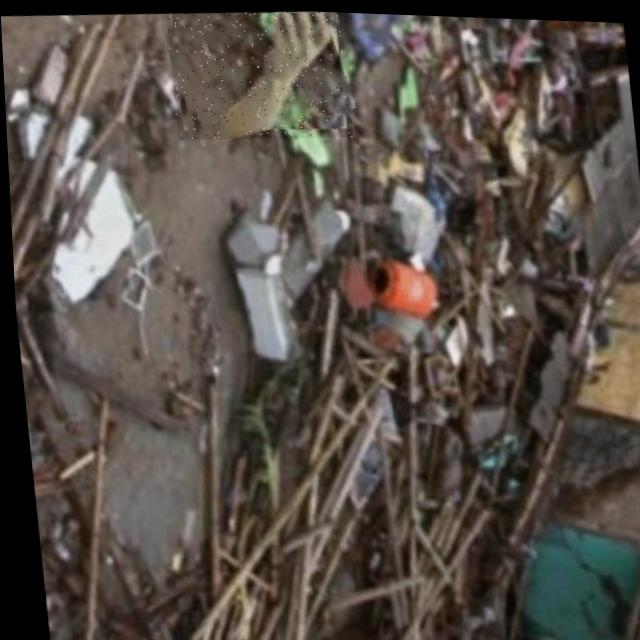Person in Rubble: (164, 5, 350, 143)
